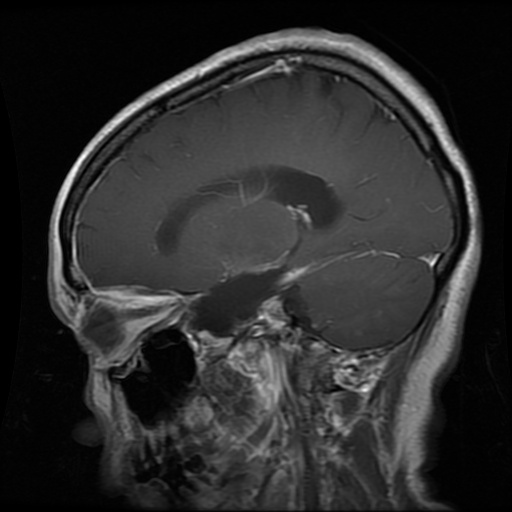glioma: (194, 267, 293, 333)
